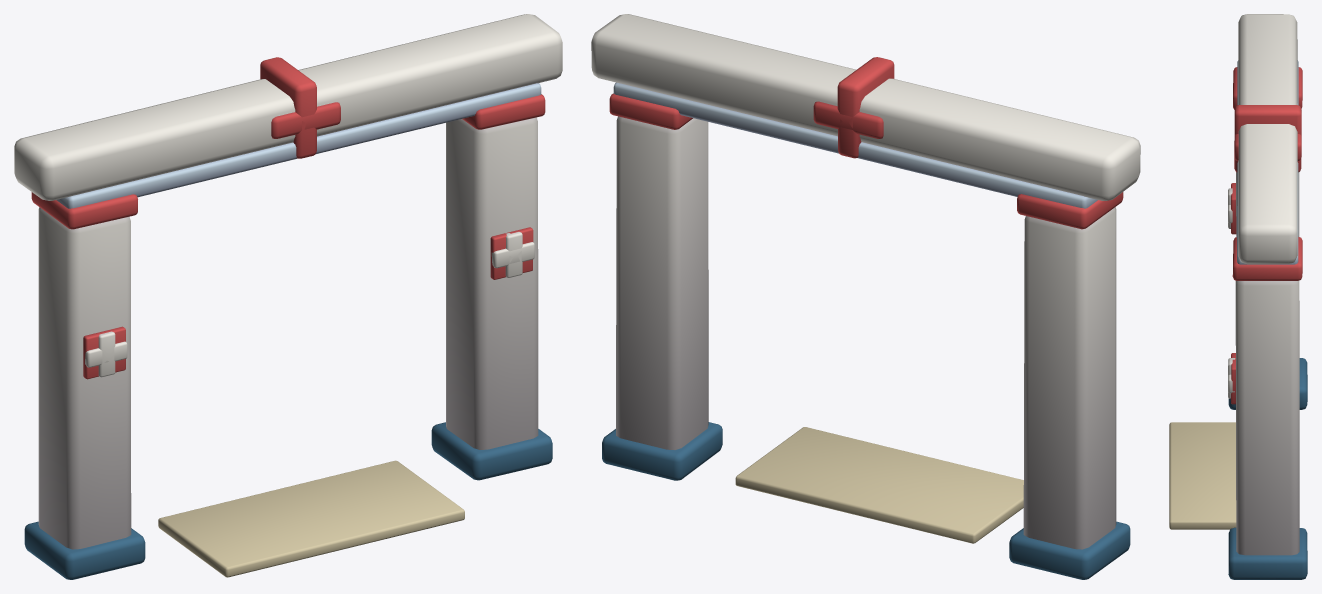
3 renders of one model, left to right at view 1: azimuth 30°, elevation 25°; view 2: azimuth 150°, elevation 25°; view 3: azimuth 270°, elevation 25°, orthographic. The views are drawn at different scales.
Parts seen in each view (by area): view 1: gate_70b5dd84; view 2: gate_70b5dd84; view 3: gate_70b5dd84.
Part boxes in pixels (box(x1,y1,x2,y2)): gate_70b5dd84: box(14, 14, 562, 579); gate_70b5dd84: box(591, 14, 1140, 579); gate_70b5dd84: box(1169, 14, 1307, 579).
Bounding box in the file's own units: 5.24 × 4.18 × 1.4.
